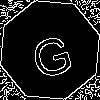G: (25, 25, 76, 81)
